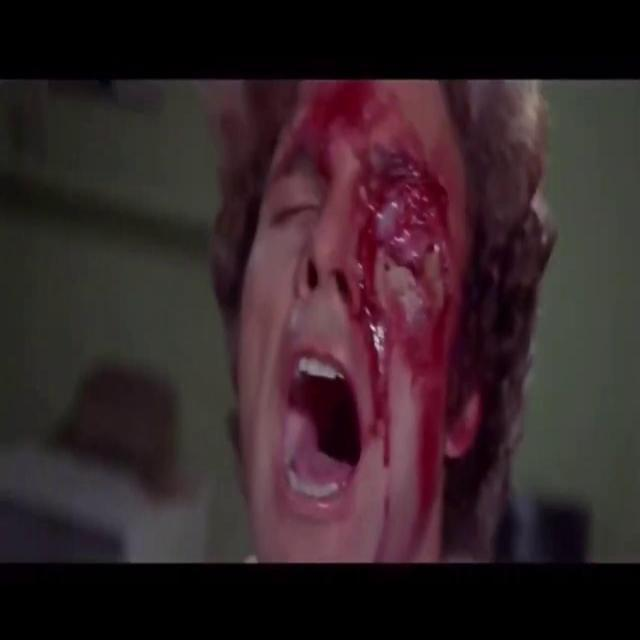flood: (266, 79, 476, 532)
